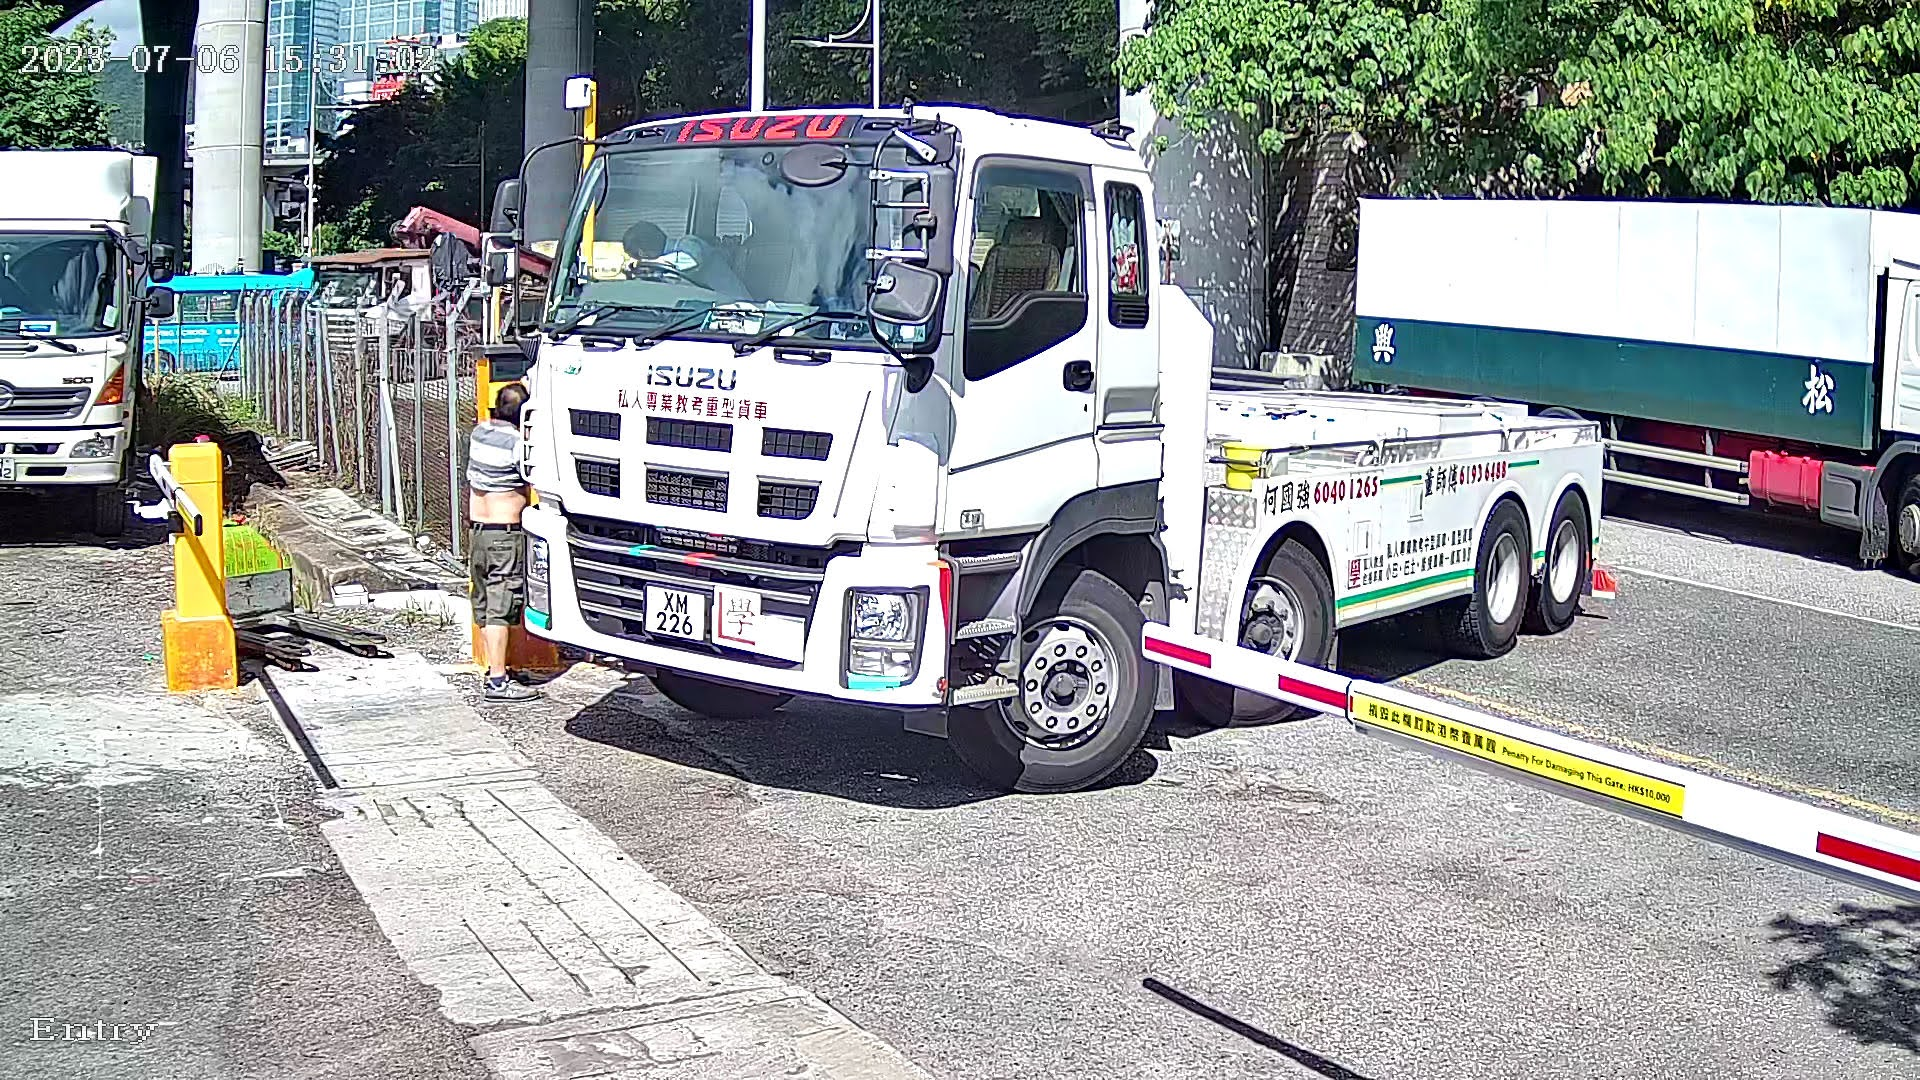truck_small: (447, 66, 1673, 796)
